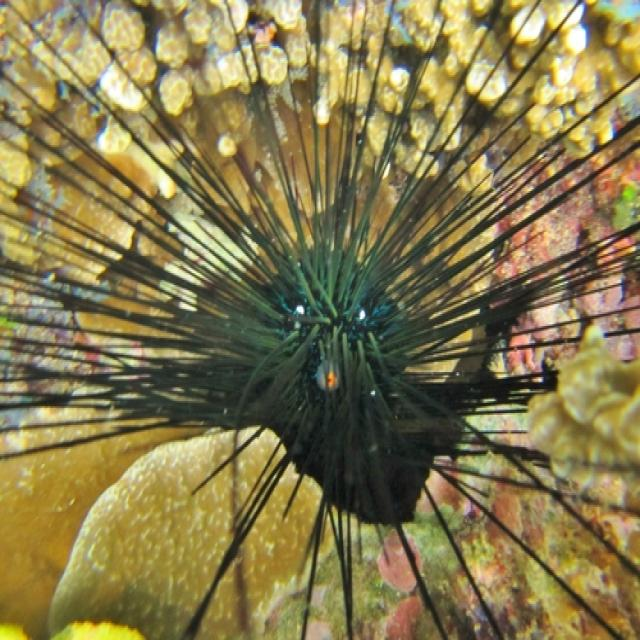Urchin: (93, 135, 588, 582)
